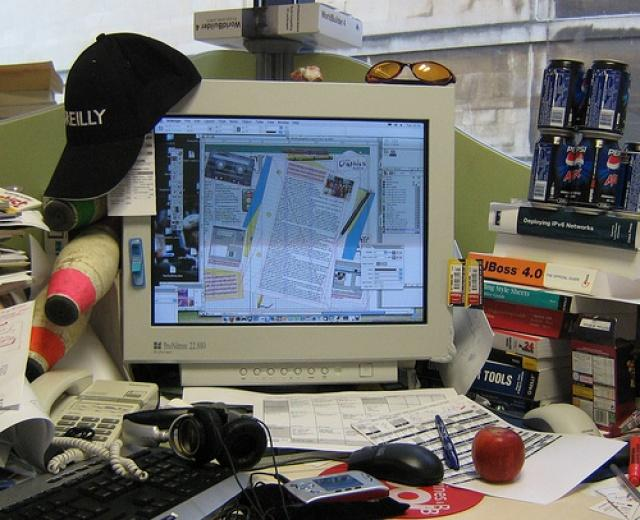AIO PC-Monitor-TV: (112, 79, 455, 363)
